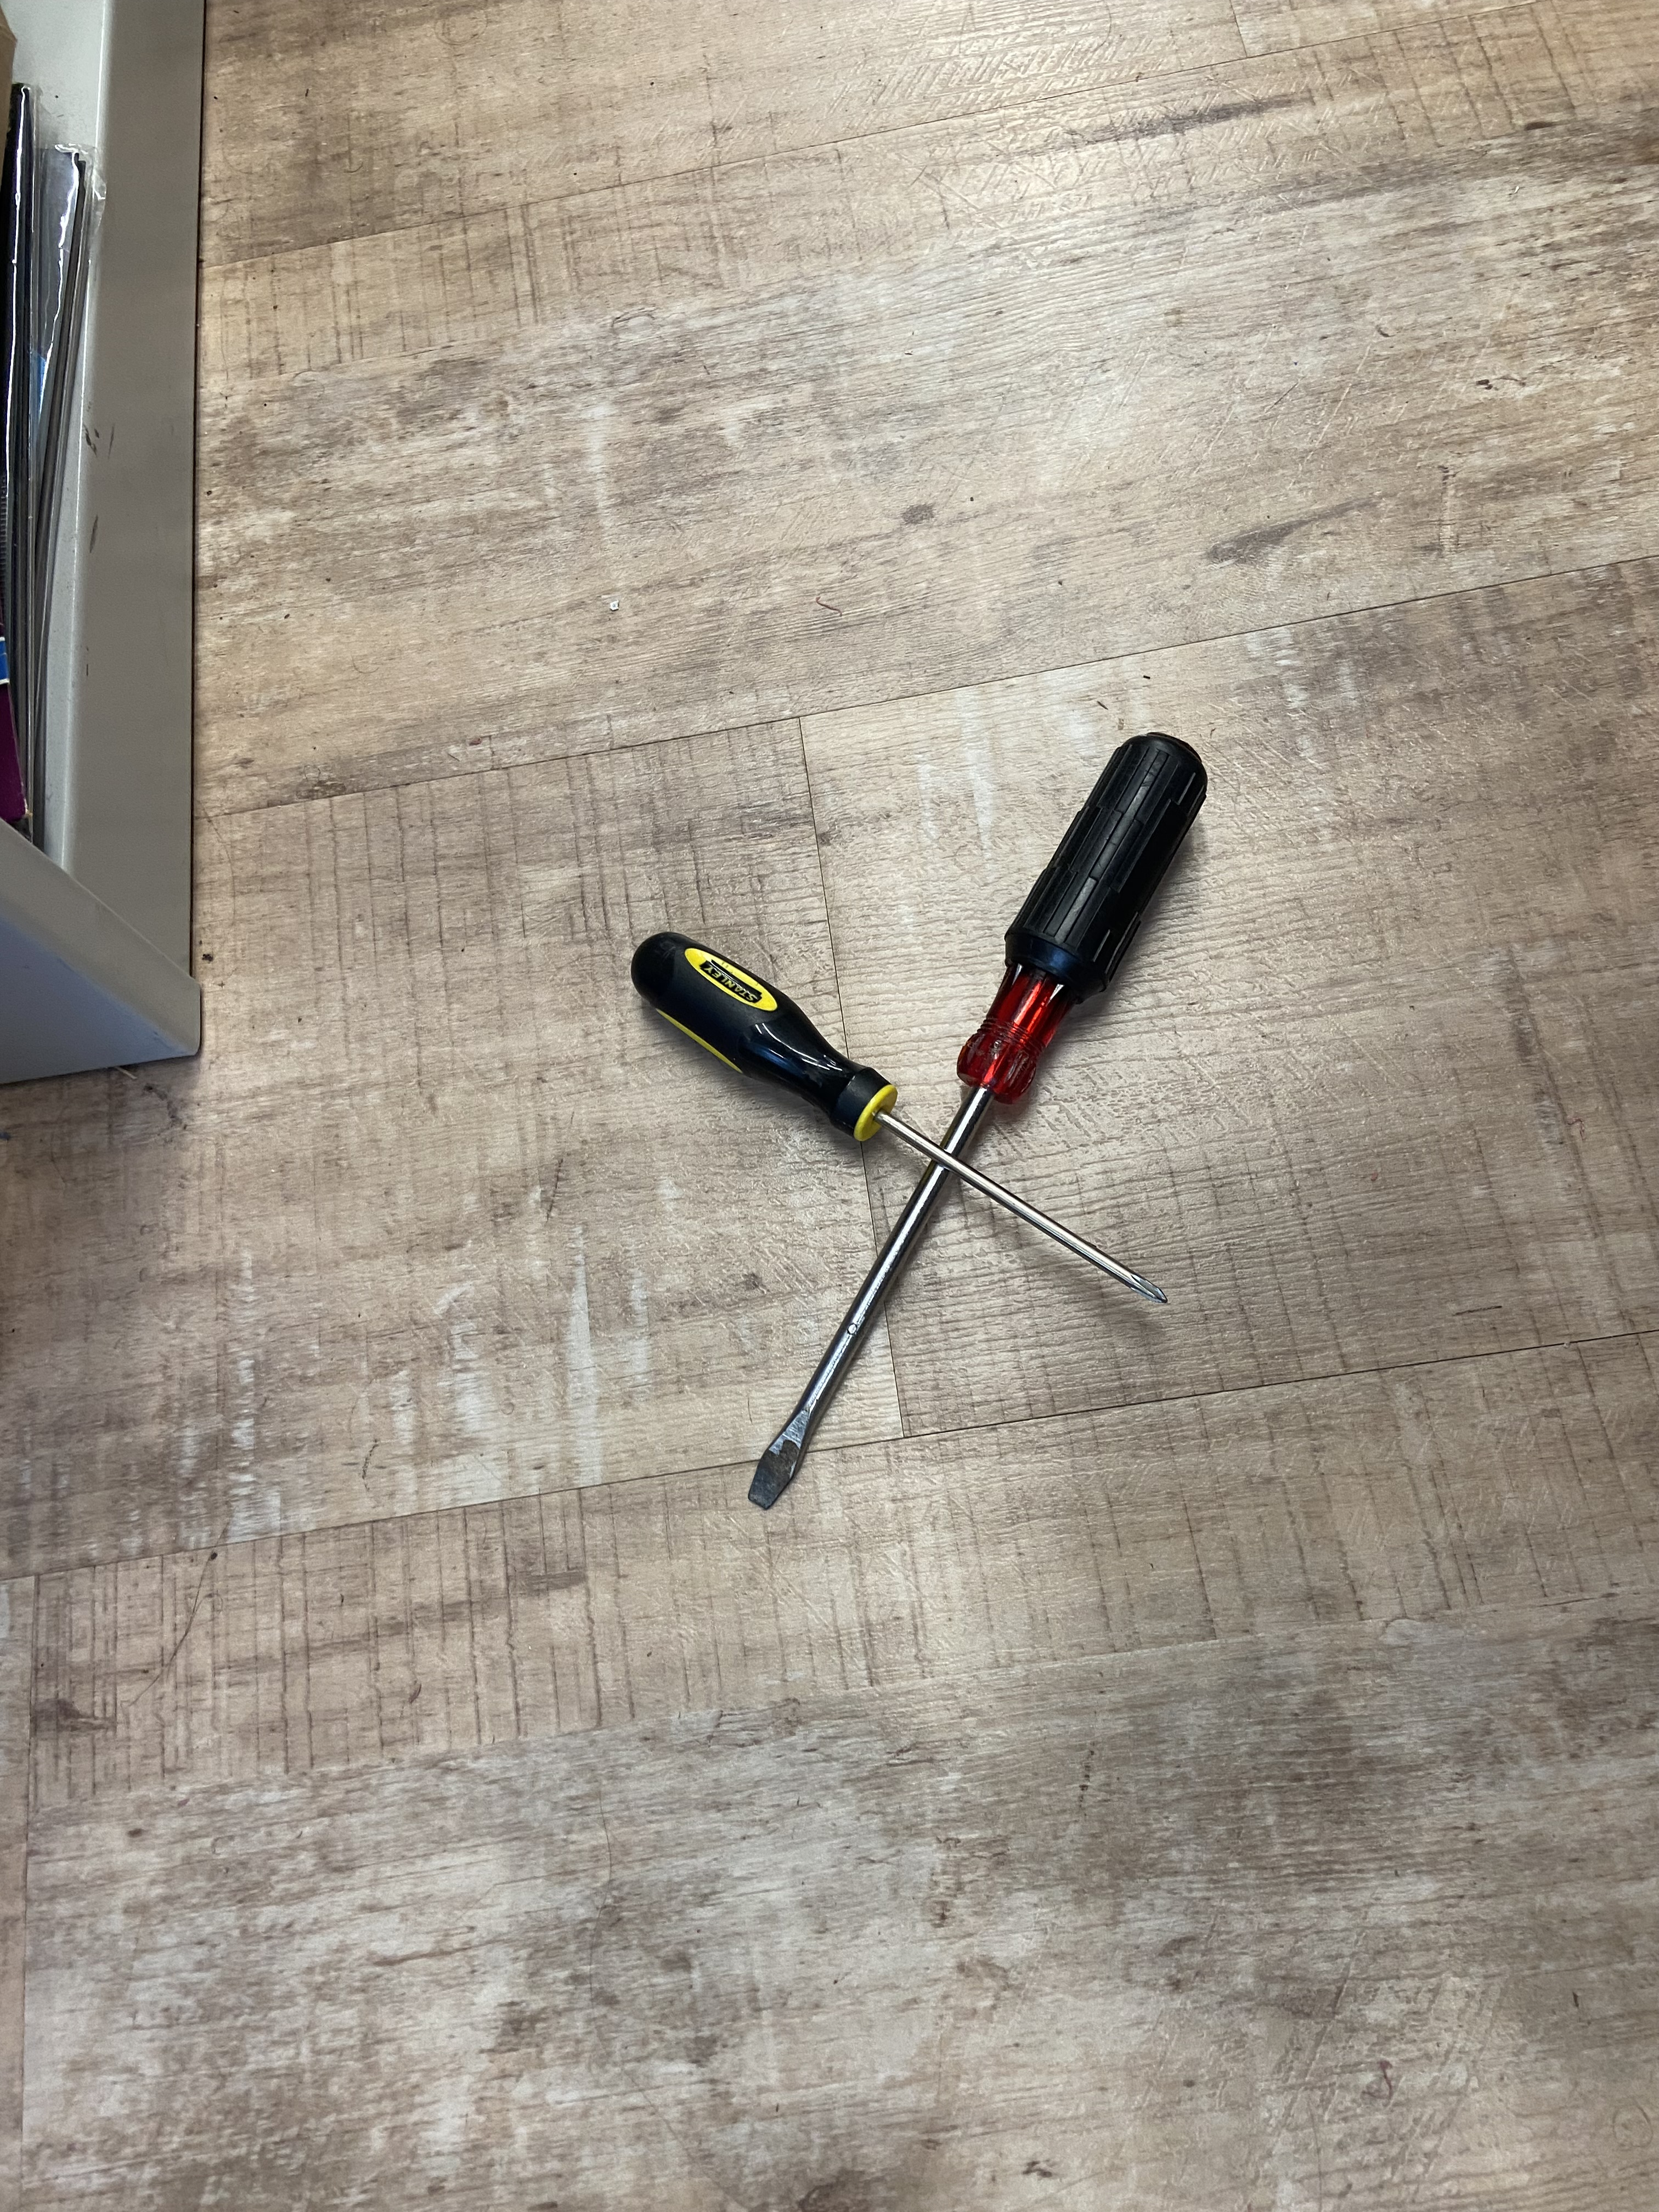screwdriver: (748, 721, 1216, 1512), (629, 925, 1194, 1315)
